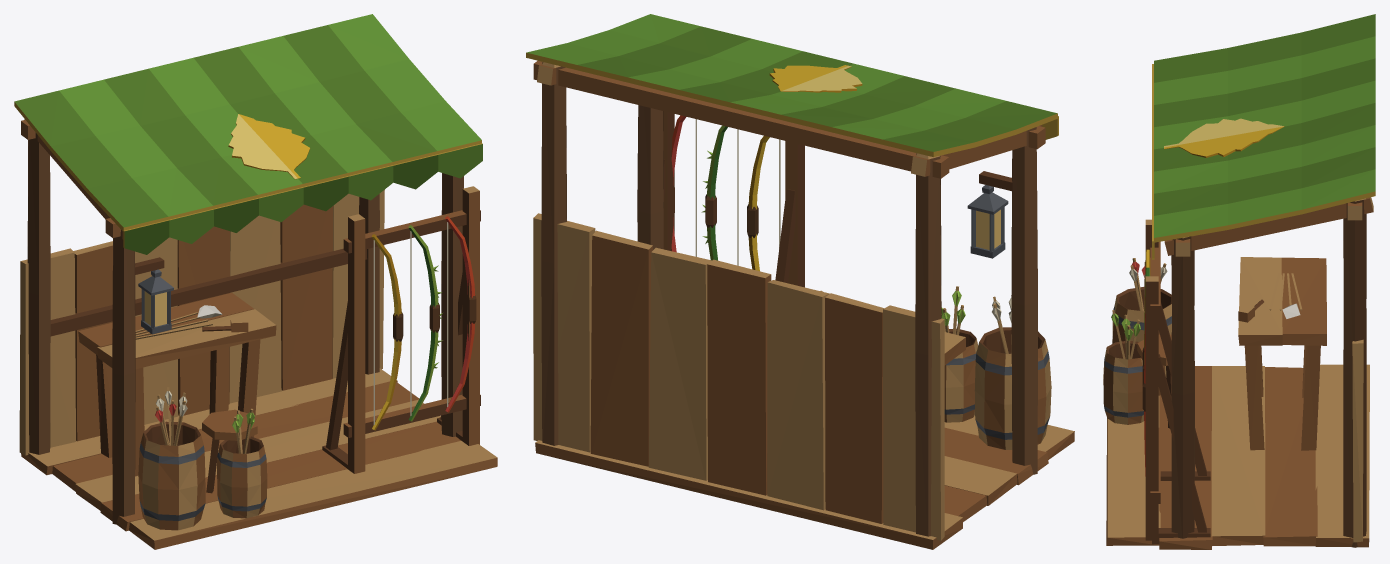
File: bow_bench_3.glb
3 views of the same model, side by side, from view 1: azimuth 30°, elevation 25°; view 2: azimuth 150°, elevation 25°; view 3: azimuth 270°, elevation 25° (orthographic). The views are drawn at different scales.
Visible parts, largest first — view 1: bow_bench_3; view 2: bow_bench_3; view 3: bow_bench_3.
Part boxes in pixels (x1,y1,x2,y2): bow_bench_3: (14,14,497,549); bow_bench_3: (526,14,1074,549); bow_bench_3: (1103,14,1375,549).
Bounding box in the file's own units: 2.45 × 2.3 × 1.58.
